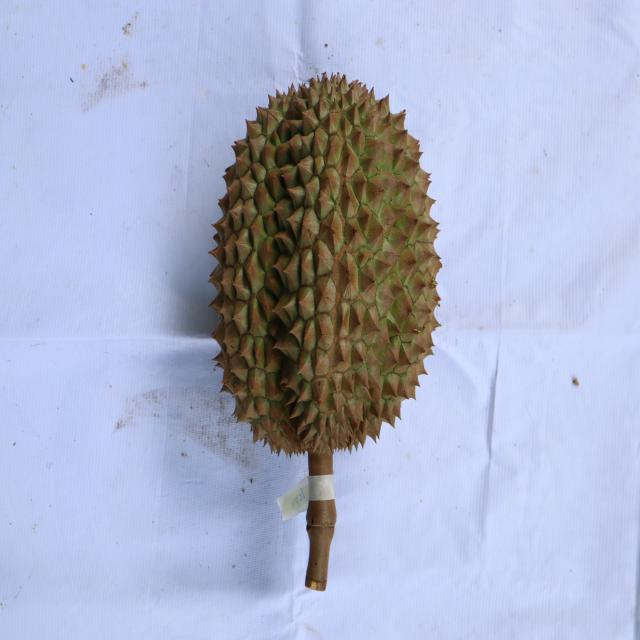mature: (208, 70, 444, 460)
